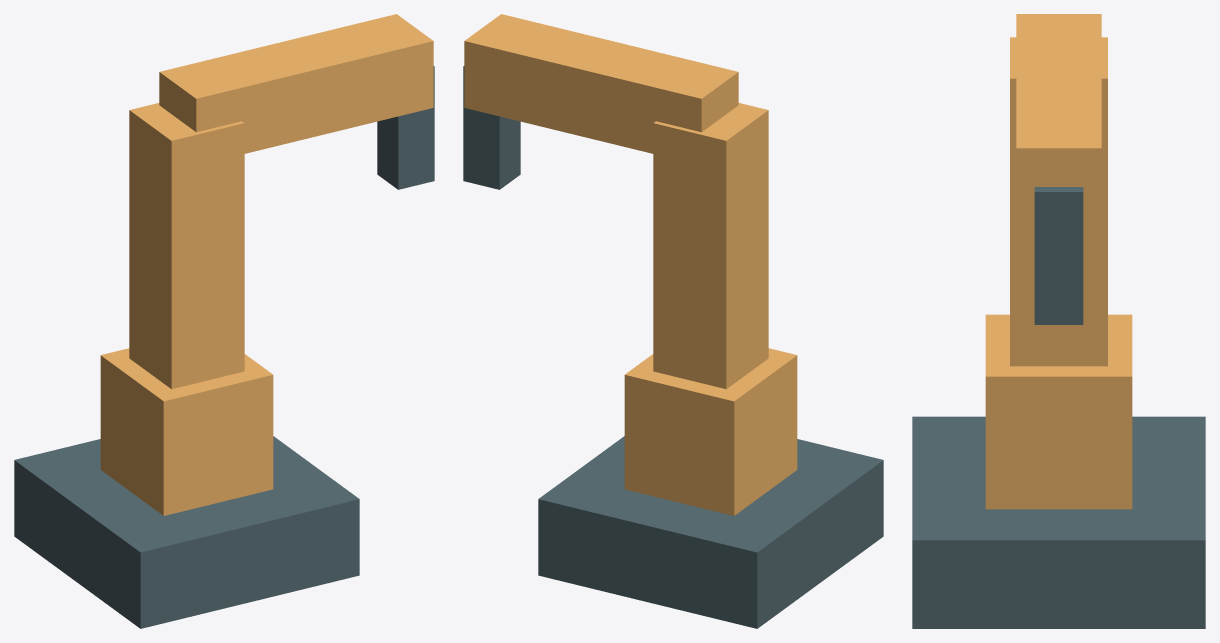
The model's file is robot.glb.
3 renders of one model, left to right at view 1: azimuth 30°, elevation 25°; view 2: azimuth 150°, elevation 25°; view 3: azimuth 270°, elevation 25°, orthographic. The views are drawn at different scales.
Visible parts, largest first — view 1: base, upper-arm, forearm, shoulder, tool; view 2: base, upper-arm, forearm, shoulder, tool; view 3: base, shoulder, forearm, upper-arm, tool.
Boxes of the visible parts, x1,y1,x2,y2 form: base: (14, 436, 359, 628); upper-arm: (129, 103, 244, 389); forearm: (159, 14, 433, 153); shoulder: (100, 348, 273, 515); tool: (377, 66, 434, 189); base: (538, 436, 883, 628); upper-arm: (653, 103, 768, 389); forearm: (464, 14, 738, 153); shoulder: (624, 348, 797, 515); tool: (463, 66, 520, 189); base: (912, 416, 1205, 628); shoulder: (985, 314, 1132, 509); forearm: (1016, 14, 1101, 225); upper-arm: (1010, 37, 1107, 366); tool: (1034, 187, 1083, 324).
Bounding box in the file's own units: 1.9 × 2.47 × 1.2.
